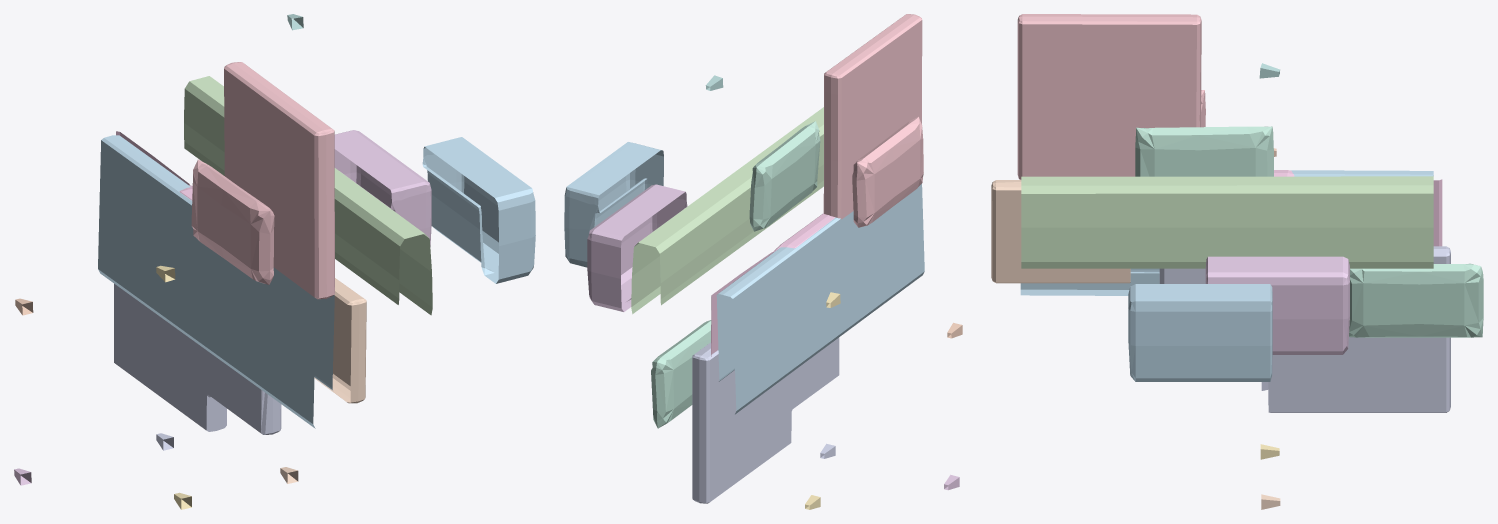
Rendered from view_input_colored.glb.
The picture shows the model from 3 angles, left to right: view 1: azimuth 30°, elevation 25°; view 2: azimuth 150°, elevation 25°; view 3: azimuth 270°, elevation 25°; orthographic projection. The views are drawn at different scales.
Parts seen in each view (by area): view 1: world; view 2: world; view 3: world.
Part boxes in pixels (box(x1,y1,x2,y2)): world: box(14, 14, 535, 509); world: box(564, 14, 962, 509); world: box(991, 14, 1483, 509).
Size of the model in its own units: 1 by 0.998 by 0.996.
